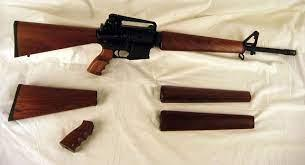larga: (12, 13, 298, 76)
